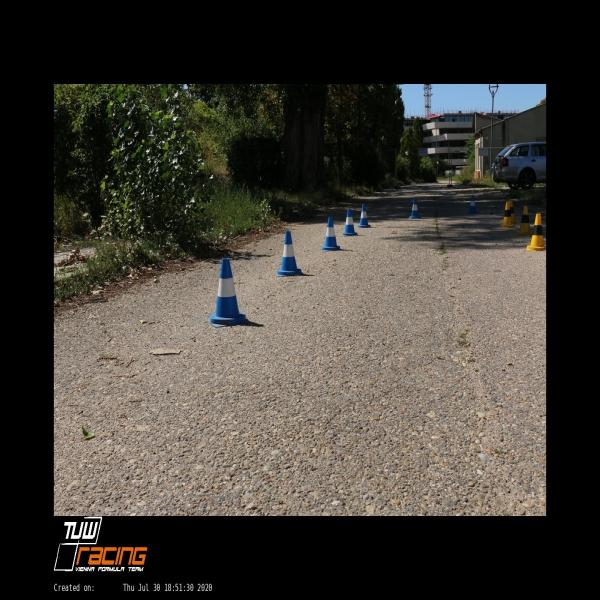blue_cone: (208, 258, 249, 328), (277, 231, 303, 275), (321, 217, 340, 250), (342, 209, 358, 236), (358, 204, 370, 227), (409, 199, 421, 218), (467, 195, 478, 214)
yellow_cone: (526, 214, 546, 250), (516, 206, 533, 236), (500, 202, 515, 228), (509, 200, 517, 224)
